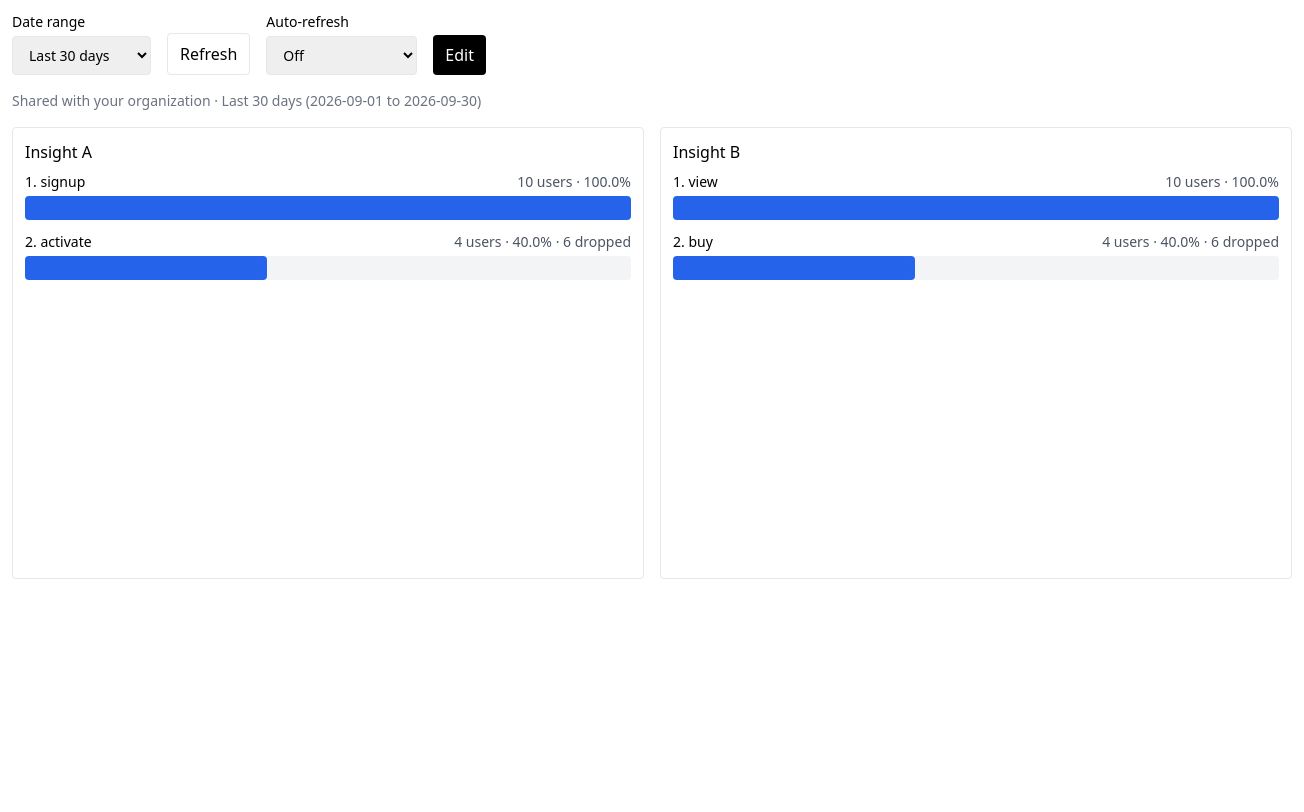
Test: DashboardView › someone who can edit gets an Edit button, and it opens the editor
Click the button "Edit" at {"x": 460, "y": 55}, box [433, 35, 486, 75]
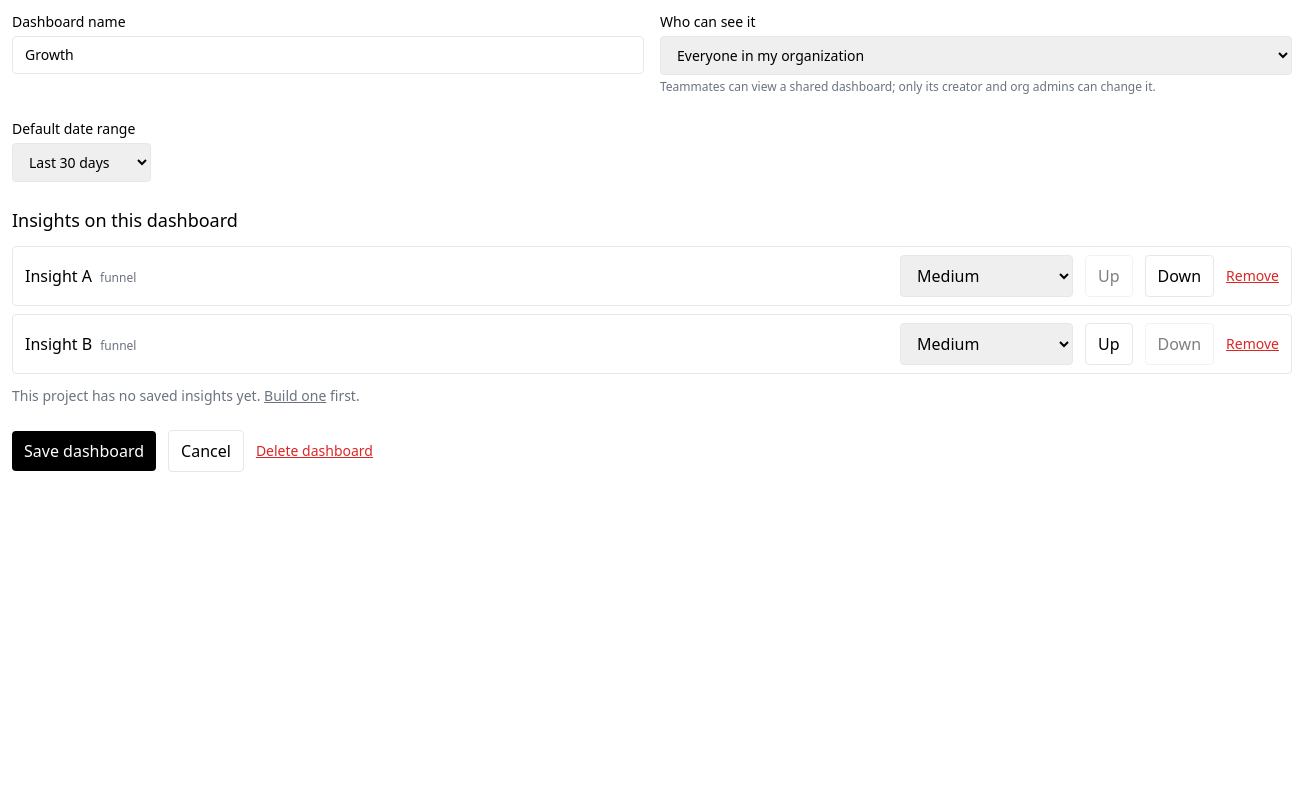
Result: the heading "Insights on this dashboard" is shown at [12, 208, 238, 232]
Result: the button "Save dashboard" is shown at [12, 431, 156, 471]
